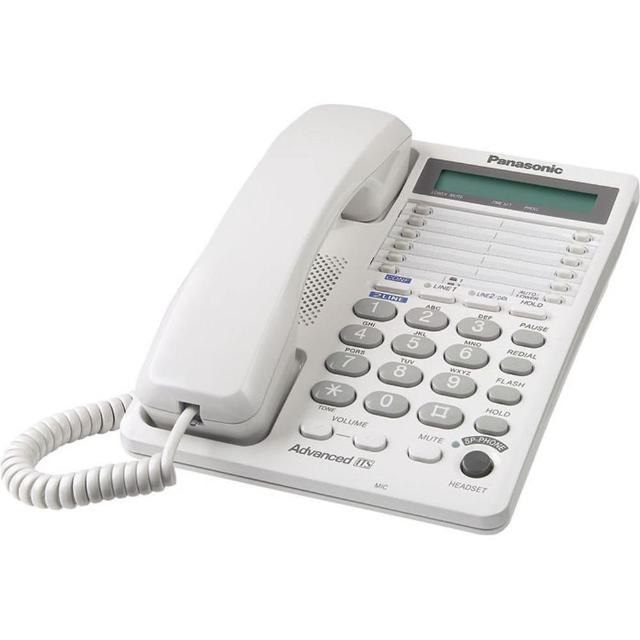Telephone-Set: (123, 46, 589, 554)
